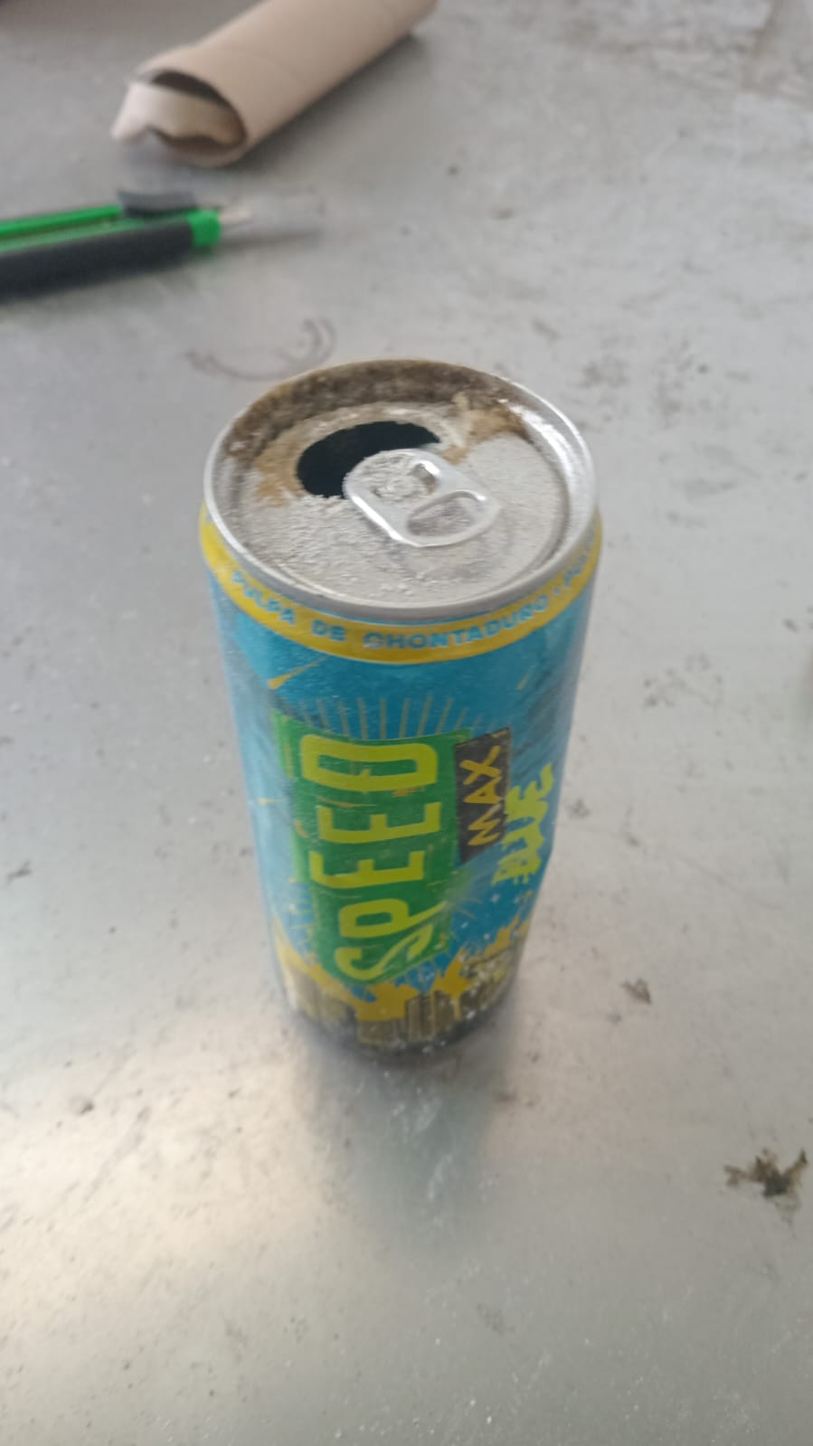Metal: (198, 363, 605, 1057)
